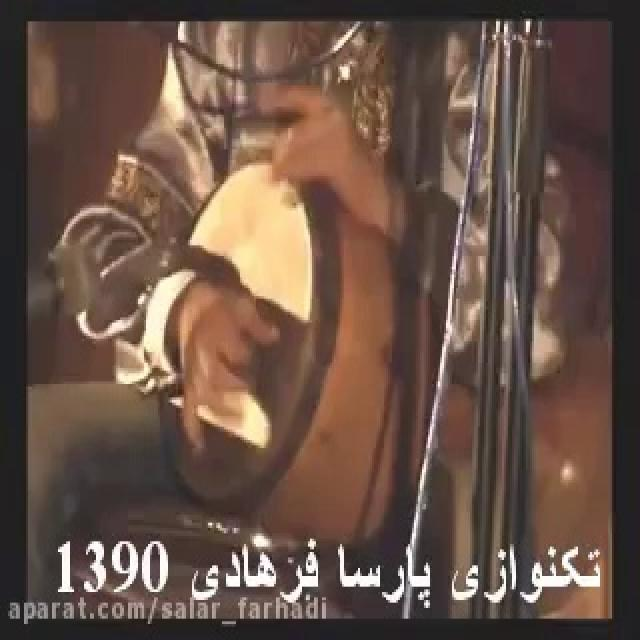Tombak: (147, 158, 423, 538)
